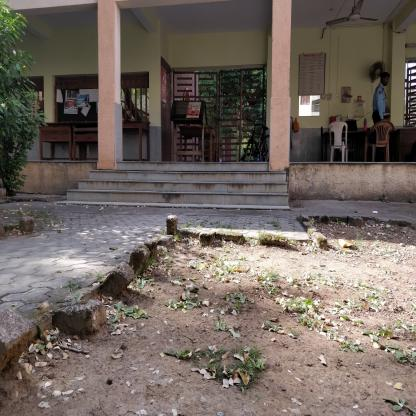stairs: (115, 161, 269, 213)
